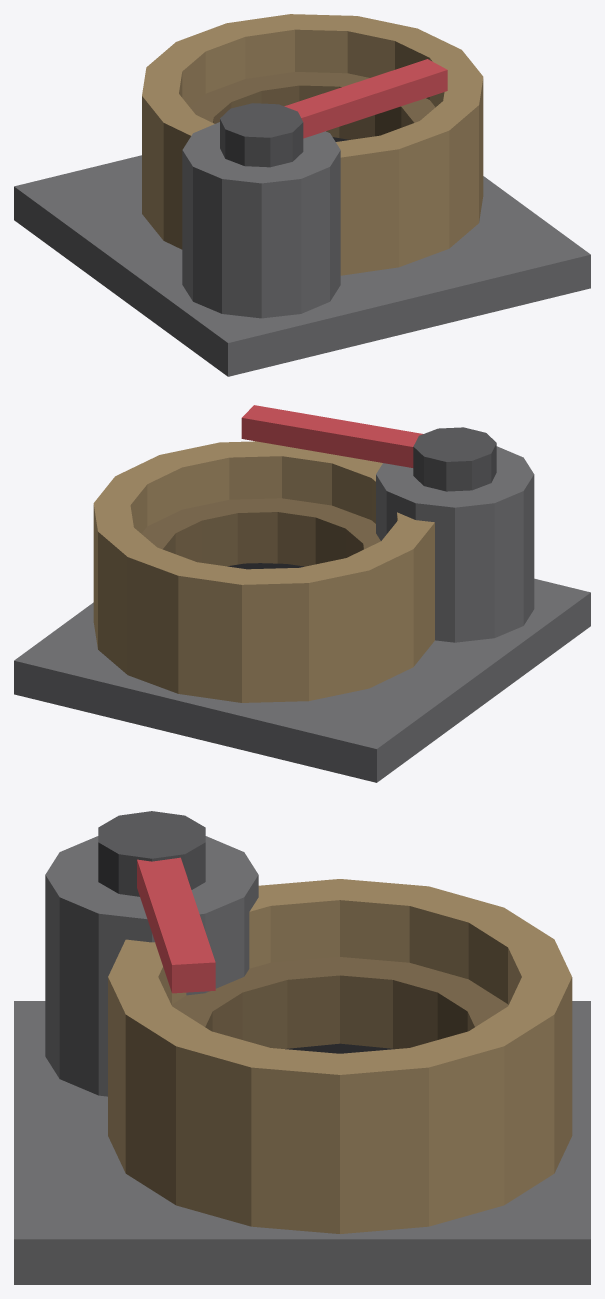
File: vge_oxygen_canister_emptier.obj
3 renders of one model, top to bottom at view 1: azimuth 30°, elevation 25°; view 2: azimuth 150°, elevation 25°; view 3: azimuth 270°, elevation 25°, orthographic. The views are drawn at different scales.
Visible parts, largest first — view 1: vge_oxygen_canister_emptier_0, vge_oxygen_canister_emptier_1, vge_oxygen_canister_emptier_4, vge_oxygen_canister_emptier_2, vge_oxygen_canister_emptier_6, vge_oxygen_canister_emptier_5; view 2: vge_oxygen_canister_emptier_1, vge_oxygen_canister_emptier_0, vge_oxygen_canister_emptier_4, vge_oxygen_canister_emptier_2, vge_oxygen_canister_emptier_6, vge_oxygen_canister_emptier_5; view 3: vge_oxygen_canister_emptier_1, vge_oxygen_canister_emptier_0, vge_oxygen_canister_emptier_4, vge_oxygen_canister_emptier_2, vge_oxygen_canister_emptier_6, vge_oxygen_canister_emptier_5, vge_oxygen_canister_emptier_3.
Boxes of the visible parts, left/top/right/bottom form: vge_oxygen_canister_emptier_0: left=14, top=155, right=590, bottom=376; vge_oxygen_canister_emptier_1: left=142, top=14, right=483, bottom=275; vge_oxygen_canister_emptier_4: left=182, top=122, right=340, bottom=318; vge_oxygen_canister_emptier_2: left=190, top=72, right=435, bottom=139; vge_oxygen_canister_emptier_6: left=284, top=59, right=447, bottom=138; vge_oxygen_canister_emptier_5: left=220, top=103, right=303, bottom=167; vge_oxygen_canister_emptier_1: left=93, top=441, right=434, bottom=702; vge_oxygen_canister_emptier_0: left=14, top=578, right=590, bottom=782; vge_oxygen_canister_emptier_4: left=376, top=446, right=534, bottom=642; vge_oxygen_canister_emptier_2: left=141, top=498, right=380, bottom=566; vge_oxygen_canister_emptier_6: left=241, top=405, right=422, bottom=467; vge_oxygen_canister_emptier_5: left=413, top=427, right=496, bottom=491; vge_oxygen_canister_emptier_1: left=108, top=879, right=572, bottom=1233; vge_oxygen_canister_emptier_0: left=14, top=1001, right=590, bottom=1284; vge_oxygen_canister_emptier_4: left=45, top=836, right=258, bottom=1096; vge_oxygen_canister_emptier_2: left=171, top=957, right=508, bottom=1048; vge_oxygen_canister_emptier_6: left=137, top=857, right=215, bottom=993; vge_oxygen_canister_emptier_5: left=98, top=811, right=205, bottom=896; vge_oxygen_canister_emptier_3: left=285, top=1043, right=394, bottom=1053.
Bounding box in the file's own units: 0.9 × 0.47 × 0.92.
